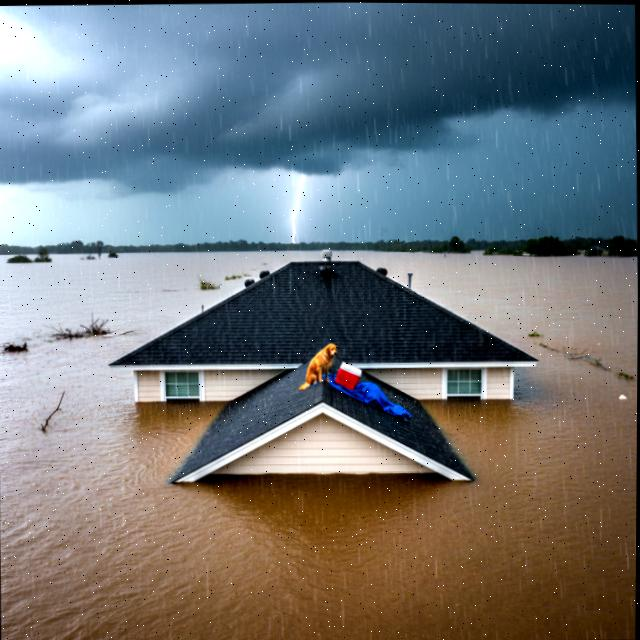dog: (299, 332, 340, 402)
